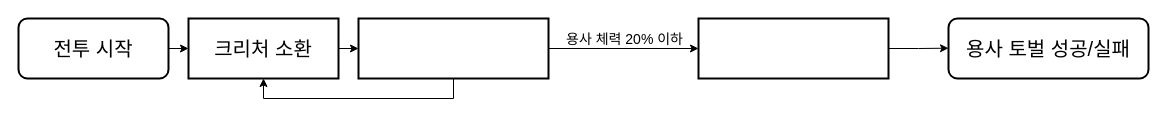
This 1166x124 diagram has some shape labels left out. The box of each missing label's shape, as (x1, y1, x2, y2) in pixels:
보스 크리처 소환: (697, 17, 889, 79)
크리처와 용사 전투: (357, 17, 549, 79)
